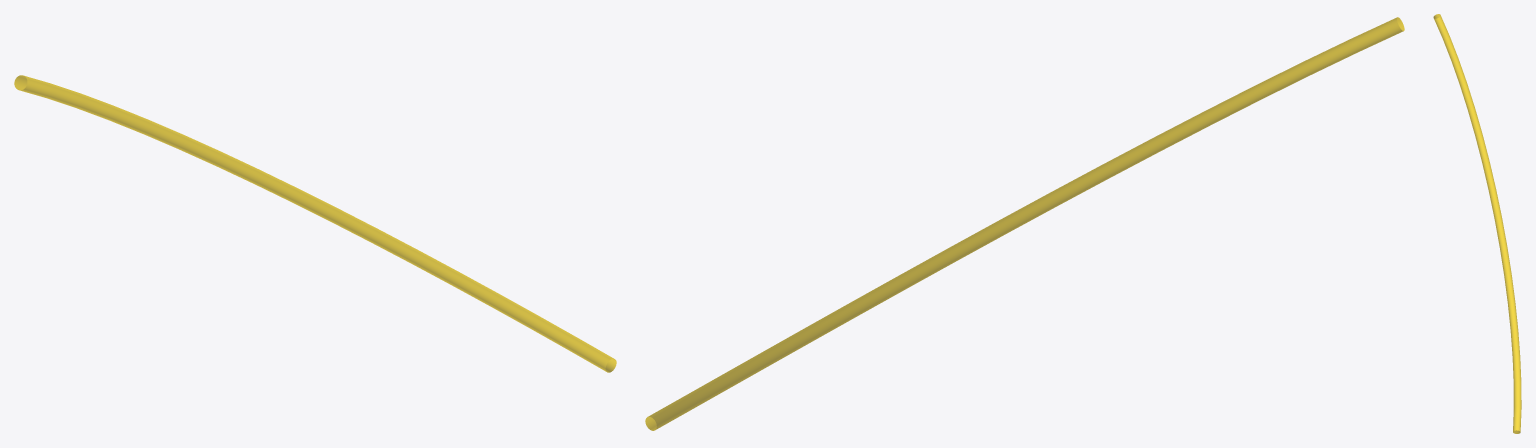
Rendered from Event_75125125_track_23.fbx.
3 views of the same model, side by side, from view 1: azimuth 30°, elevation 25°; view 2: azimuth 150°, elevation 25°; view 3: azimuth 270°, elevation 25° (orthographic). The views are drawn at different scales.
Visible parts, largest first — view 1: Model; view 2: Model; view 3: Model.
Boxes of the visible parts, x1=… form: Model: x1=14, y1=75, x2=616, y2=372; Model: x1=645, y1=17, x2=1404, y2=430; Model: x1=1433, y1=14, x2=1521, y2=433.
Bounding box in the file's own units: 2.03 × 1.48 × 0.4567.
